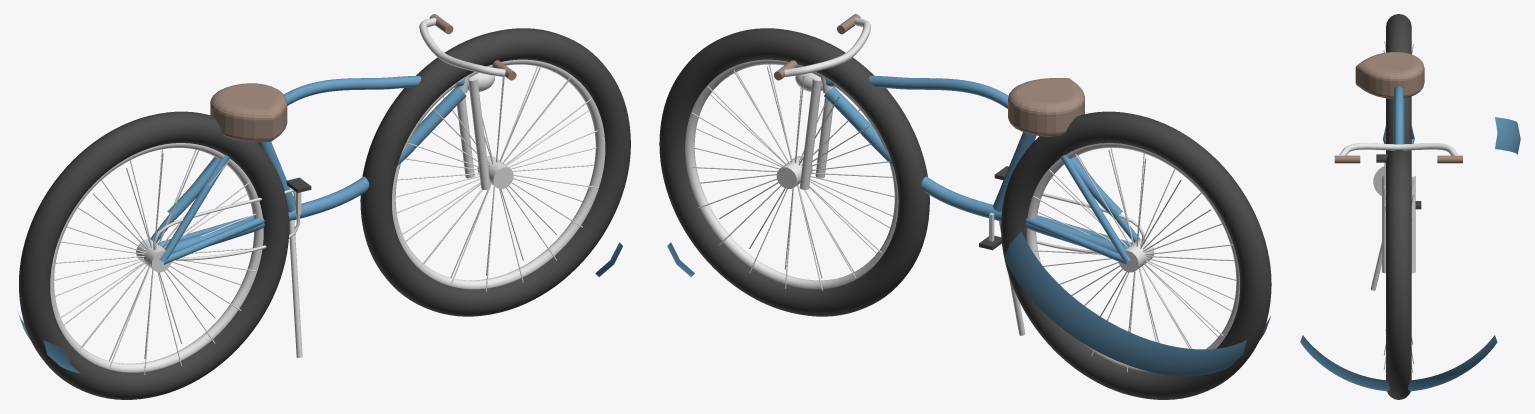
Rendered from build-a-beach-cruiser-in-high-fidelity.gltf.
The picture shows the model from 3 angles, left to right: view 1: azimuth 30°, elevation 25°; view 2: azimuth 150°, elevation 25°; view 3: azimuth 270°, elevation 25°; orthographic projection. The views are drawn at different scales.
Bounding box in the file's own units: 17.8 × 7.8 × 6.87.
